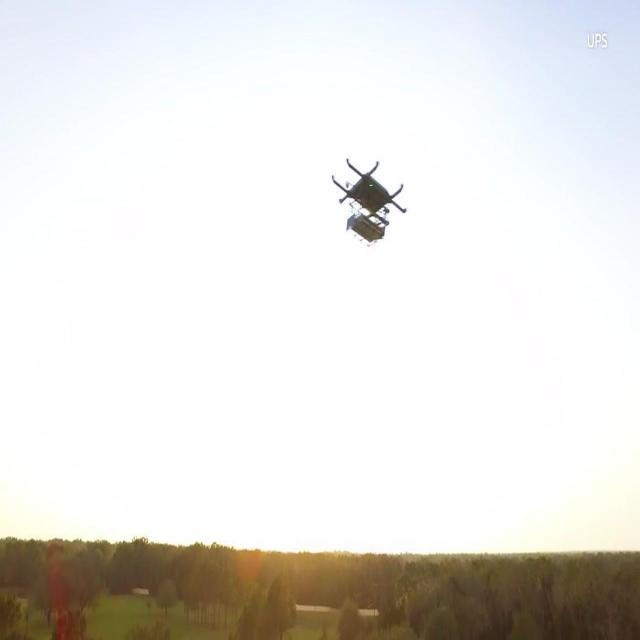UAV: (332, 158, 406, 246)
